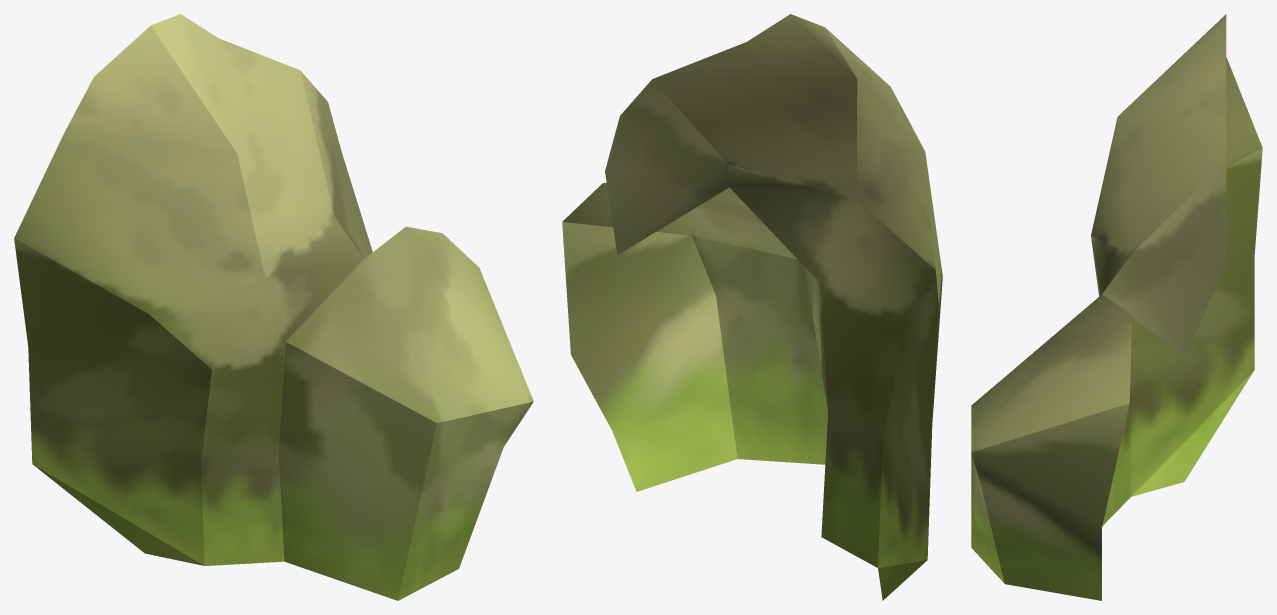
Rendered from OM_S01_ny_rock01BA.fbx.
3 views of the same model, side by side, from view 1: azimuth 30°, elevation 25°; view 2: azimuth 150°, elevation 25°; view 3: azimuth 270°, elevation 25° (orthographic). The views are drawn at different scales.
Parts seen in each view (by area): view 1: OM_S01_ny_rock01BA; view 2: OM_S01_ny_rock01BA; view 3: OM_S01_ny_rock01BA.
Part boxes in pixels (x1=…): OM_S01_ny_rock01BA: x1=14, y1=14, x2=533, y2=600; OM_S01_ny_rock01BA: x1=562, y1=14, x2=942, y2=600; OM_S01_ny_rock01BA: x1=971, y1=14, x2=1262, y2=600.
Bounding box in the file's own units: 199 × 241 × 131.
